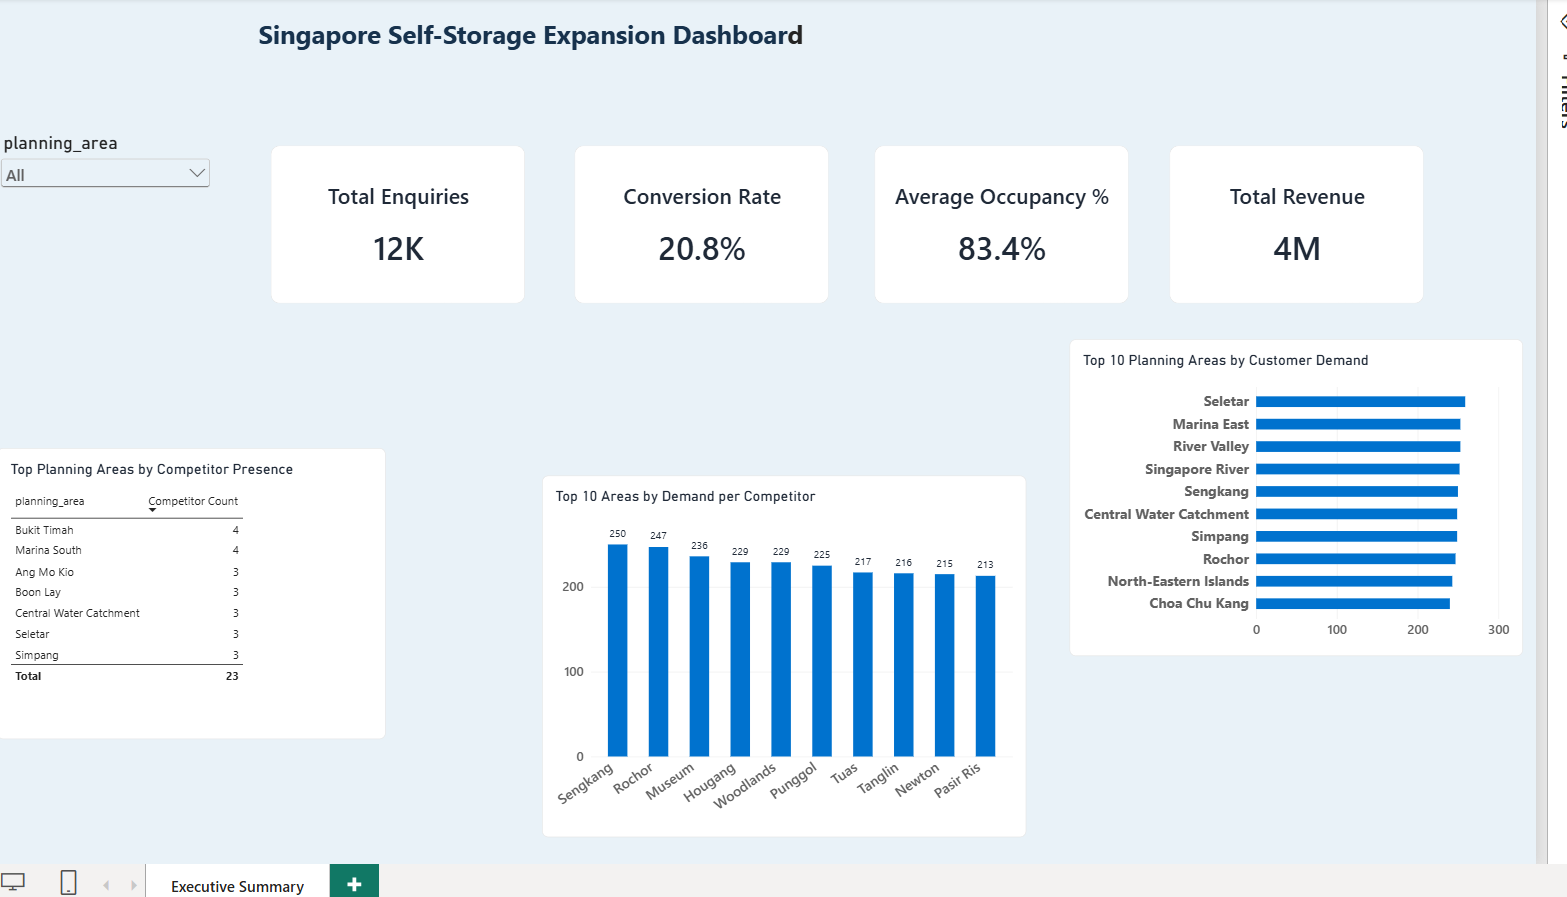

This screenshot's page, from the dashboard's own definition file:
{"tool":"powerbi","page":{"name":"Executive Summary","canvas":[1920,1080],"ordinal":0},"visuals":[{"type":"textbox","box":[322.5,23.8,686,93.1],"z":0},{"type":"cardVisual","fields":{"Data":["candidate_sites.Total Enquiries"]},"box":[341.7,184.2,317.7,197.6],"z":1000},{"type":"cardVisual","fields":{"Data":["candidate_sites.Conversion Rate"]},"box":[720.8,184.2,317.7,197.6],"z":2000},{"type":"cardVisual","fields":{"Data":["candidate_sites.Average Occupancy %"]},"box":[1094.6,184.2,317.7,197.6],"z":3000},{"type":"cardVisual","fields":{"Data":["candidate_sites.Total Revenue"]},"box":[1463,184.2,317.7,197.6],"z":4000},{"type":"clusteredBarChart","title":"Top 10 Planning Areas by Customer Demand","fields":{"Y":["candidate_sites.Total Enquiries"],"Category":["customer_enquiries.planning_area"]},"box":[1337.4,426.3,566,395.1],"z":5000},{"type":"tableEx","title":"Top Planning Areas by Competitor Presence","fields":{"Values":["planning_area.planning_area","candidate_sites.Competitor Count"]},"box":[0,560.5,484.8,363.6],"z":6000},{"type":"clusteredColumnChart","title":"Top 10 Areas by Demand per Competitor","fields":{"Category":["planning_area.planning_area"],"Y":["candidate_sites.Demand per Competitor"]},"box":[679.5,595.1,604,451.2],"z":7000},{"type":"slicer","fields":{"Values":["customer_enquiries.planning_area"]},"box":[0,166.6,270.5,77.9],"z":7001}]}

Visuals, with their boxes on the page's 1920x1080 design canvas (x1, y1, x2, y2). These are canvas units, not pixel positions in the 1567x897 screenshot, which may show the page scaled, cropped or inside an application window:
textbox: x1=322, y1=24, x2=1008, y2=117
cardVisual - candidate_sites.Total Enquiries: x1=342, y1=184, x2=659, y2=382
cardVisual - candidate_sites.Conversion Rate: x1=721, y1=184, x2=1038, y2=382
cardVisual - candidate_sites.Average Occupancy %: x1=1095, y1=184, x2=1412, y2=382
cardVisual - candidate_sites.Total Revenue: x1=1463, y1=184, x2=1781, y2=382
"Top 10 Planning Areas by Customer Demand" clusteredBarChart: x1=1337, y1=426, x2=1903, y2=821
"Top Planning Areas by Competitor Presence" tableEx: x1=0, y1=560, x2=485, y2=924
"Top 10 Areas by Demand per Competitor" clusteredColumnChart: x1=680, y1=595, x2=1284, y2=1046
slicer - customer_enquiries.planning_area: x1=0, y1=167, x2=270, y2=244
